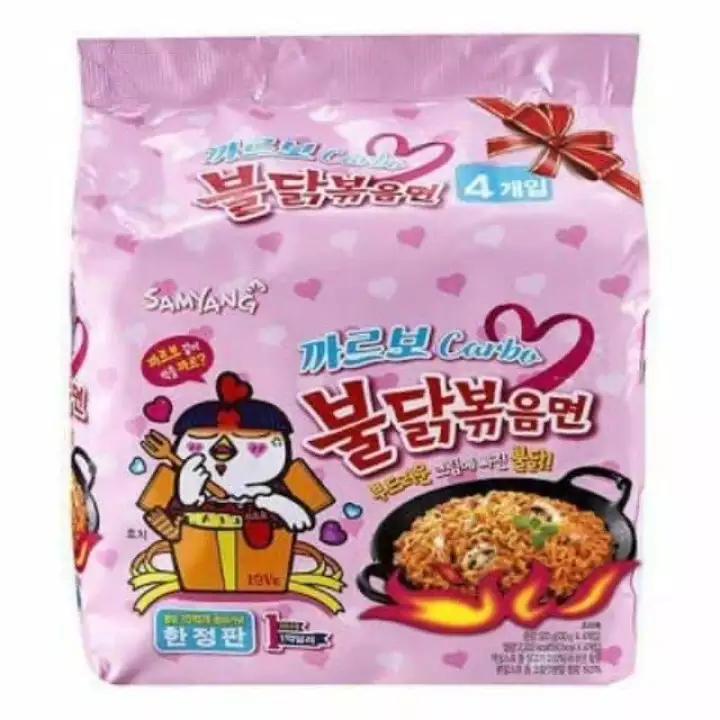Snack: (44, 26, 661, 697)
